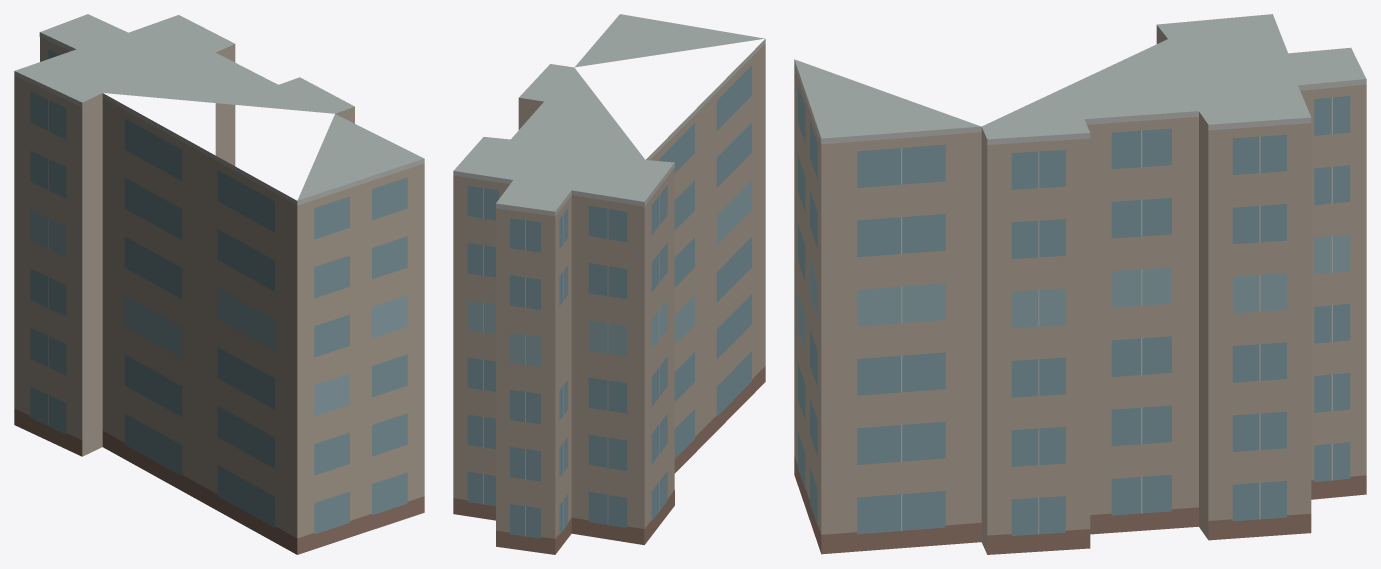
File: survey-upis-32748755.glb
The picture shows the model from 3 angles, left to right: view 1: azimuth 30°, elevation 25°; view 2: azimuth 150°, elevation 25°; view 3: azimuth 270°, elevation 25°; orthographic projection. The views are drawn at different scales.
Visible parts, largest first — view 1: survey-upis-32748755.tmp; view 2: survey-upis-32748755.tmp; view 3: survey-upis-32748755.tmp.
Boxes of the visible parts, box(x1,y1,x2,y2) form: survey-upis-32748755.tmp: box(14, 14, 424, 554); survey-upis-32748755.tmp: box(453, 14, 765, 554); survey-upis-32748755.tmp: box(794, 14, 1366, 554).
Bounding box in the file's own units: 11.59 × 17.9 × 22.35.
